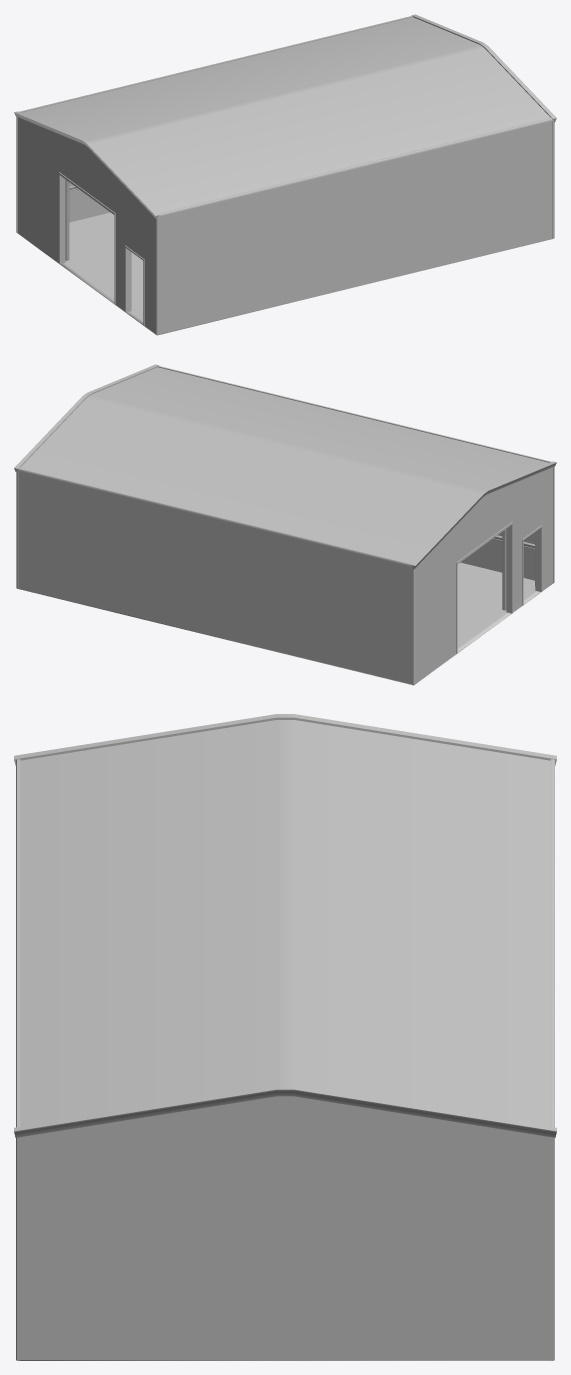
Rendered from Garage01.FBX.
3 renders of one model, top to bottom at view 1: azimuth 30°, elevation 25°; view 2: azimuth 150°, elevation 25°; view 3: azimuth 270°, elevation 25°, orthographic. The views are drawn at different scales.
Parts seen in each view (by area): view 1: Garage01; view 2: Garage01; view 3: Garage01.
Boxes of the visible parts, x1,y1,x2,y2 form: Garage01: (14,14,556,335); Garage01: (14,364,556,685); Garage01: (14,714,556,1360).
Size of the model in its own units: 1294 by 439 by 790.
